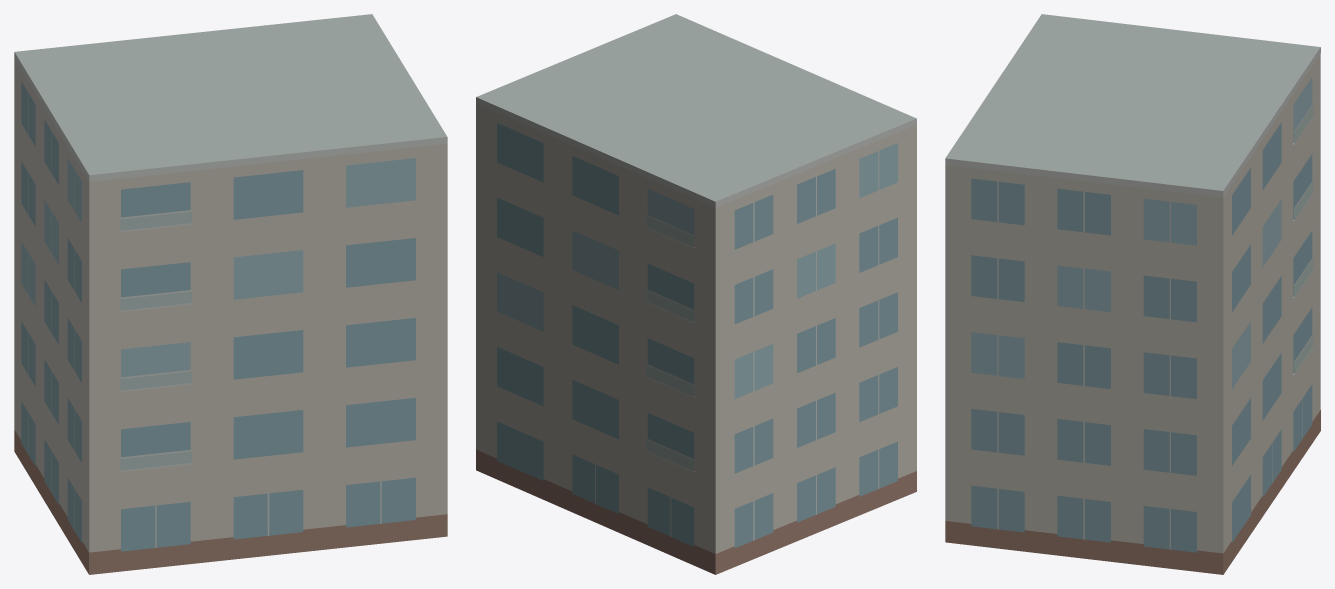
File: survey-upis-32872828.glb
The picture shows the model from 3 angles, left to right: view 1: azimuth 30°, elevation 25°; view 2: azimuth 150°, elevation 25°; view 3: azimuth 270°, elevation 25°; orthographic projection. The views are drawn at different scales.
Parts seen in each view (by area): view 1: survey-upis-32872828.tmp; view 2: survey-upis-32872828.tmp; view 3: survey-upis-32872828.tmp.
Boxes of the visible parts, bbox=[...] form: survey-upis-32872828.tmp: bbox=[14, 14, 447, 574]; survey-upis-32872828.tmp: bbox=[476, 14, 916, 574]; survey-upis-32872828.tmp: bbox=[945, 14, 1320, 574].
Size of the model in its own units: 14.44 by 14.6 by 12.95.
